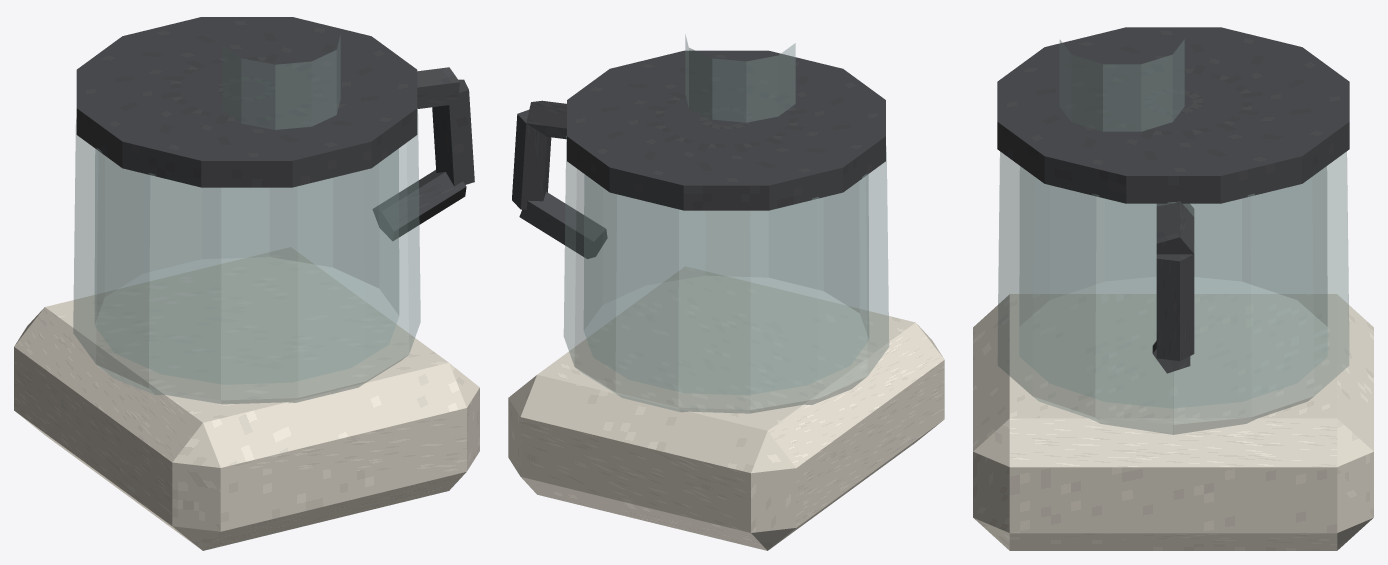
File: food_processor.glb
3 renders of one model, left to right at view 1: azimuth 30°, elevation 25°; view 2: azimuth 150°, elevation 25°; view 3: azimuth 270°, elevation 25°, orthographic. The views are drawn at different scales.
Parts seen in each view (by area): view 1: block_motor base, block_clear processing bowl, block_gray lid, block_feed tube, block_bowl handle 2, block_bowl handle 1, block_bowl handle 0; view 2: block_motor base, block_clear processing bowl, block_gray lid, block_feed tube, block_bowl handle 2, block_bowl handle 1, block_bowl handle 0; view 3: block_motor base, block_clear processing bowl, block_gray lid, block_feed tube, block_bowl handle 1, block_bowl handle 0.
Boxes of the visible parts, x1,y1,x2,y2 form: block_motor base: [14, 247, 479, 550]; block_clear processing bowl: [73, 108, 420, 404]; block_gray lid: [76, 17, 417, 187]; block_feed tube: [222, 35, 340, 129]; block_bowl handle 2: [373, 170, 466, 240]; block_bowl handle 1: [432, 79, 474, 186]; block_bowl handle 0: [417, 67, 459, 108]; block_motor base: [508, 266, 944, 550]; block_clear processing bowl: [563, 136, 889, 413]; block_gray lid: [567, 50, 885, 210]; block_feed tube: [685, 34, 795, 122]; block_bowl handle 2: [519, 191, 607, 258]; block_bowl handle 1: [512, 110, 551, 209]; block_bowl handle 0: [526, 100, 566, 139]; block_motor base: [973, 294, 1373, 550]; block_clear processing bowl: [997, 151, 1349, 434]; block_gray lid: [997, 27, 1349, 203]; block_feed tube: [1059, 39, 1184, 131]; block_bowl handle 1: [1156, 254, 1194, 360]; block_bowl handle 0: [1156, 201, 1194, 254].
Size of the model in its own units: 0.3618 by 0.4 by 0.3196.
2 materials, 2 textured.
